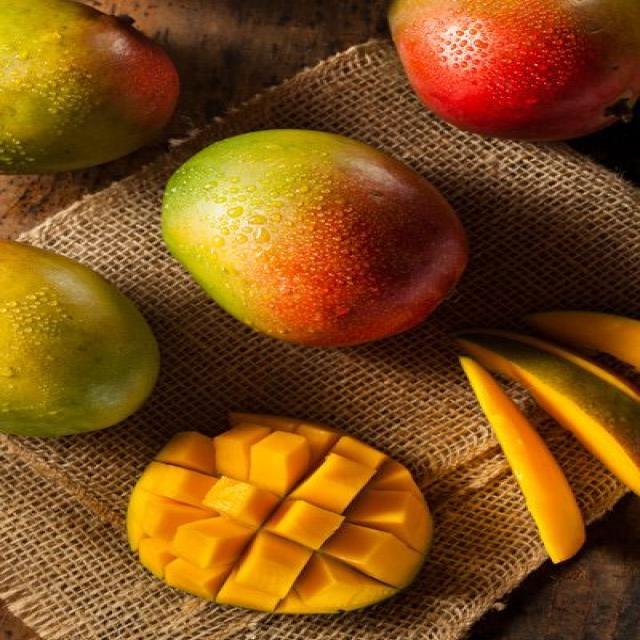mango: (162, 130, 467, 345), (127, 414, 431, 613), (389, 0, 639, 139), (0, 240, 158, 436), (0, 0, 179, 173), (458, 330, 639, 492), (461, 357, 585, 563), (525, 310, 639, 369)
